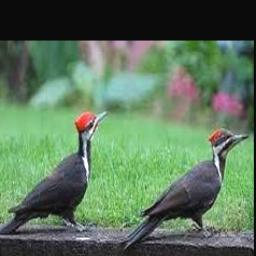Woodpecker: (120, 127, 250, 249), (0, 110, 109, 233)
